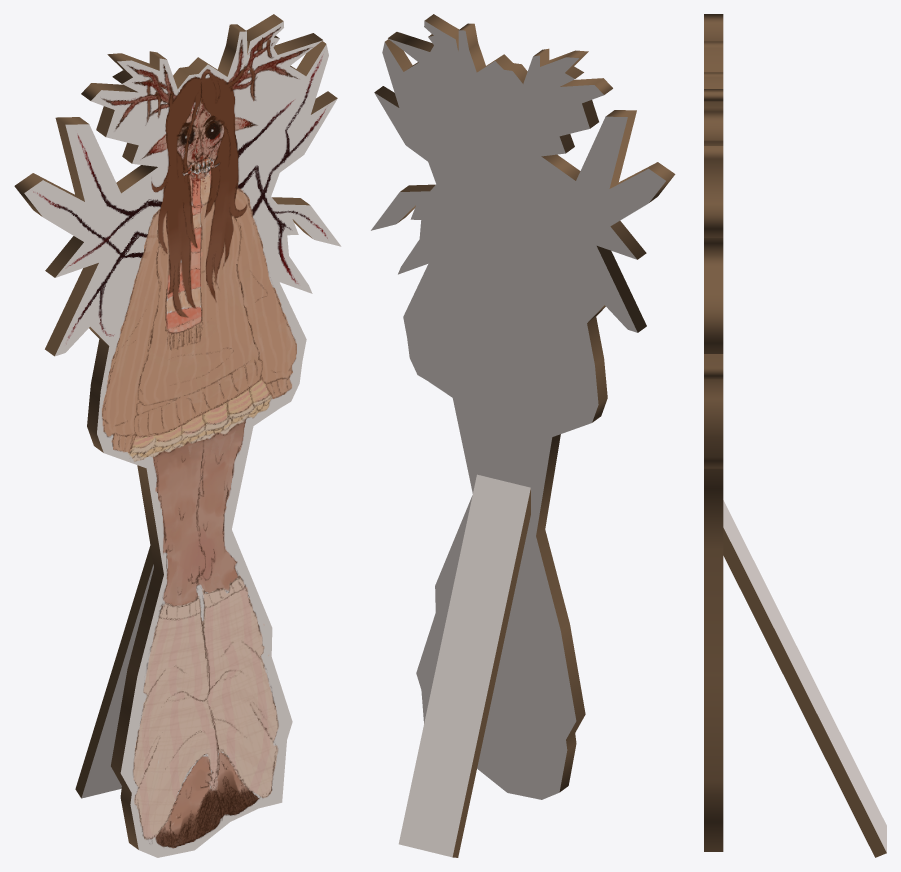
The model's file is Gullan_Angry.fbx.
3 views of the same model, side by side, from view 1: azimuth 30°, elevation 25°; view 2: azimuth 150°, elevation 25°; view 3: azimuth 270°, elevation 25° (orthographic). The views are drawn at different scales.
Parts seen in each view (by area): view 1: Gullan_Angry; view 2: Gullan_Angry; view 3: Gullan_Angry.
Part boxes in pixels (box(x1,y1,x2,y2)): Gullan_Angry: box(14, 14, 341, 857); Gullan_Angry: box(371, 14, 675, 857); Gullan_Angry: box(704, 14, 886, 857).
Size of the model in its own units: 76.22 by 187 by 39.1.
Materials: 1 (1 with a texture image).
